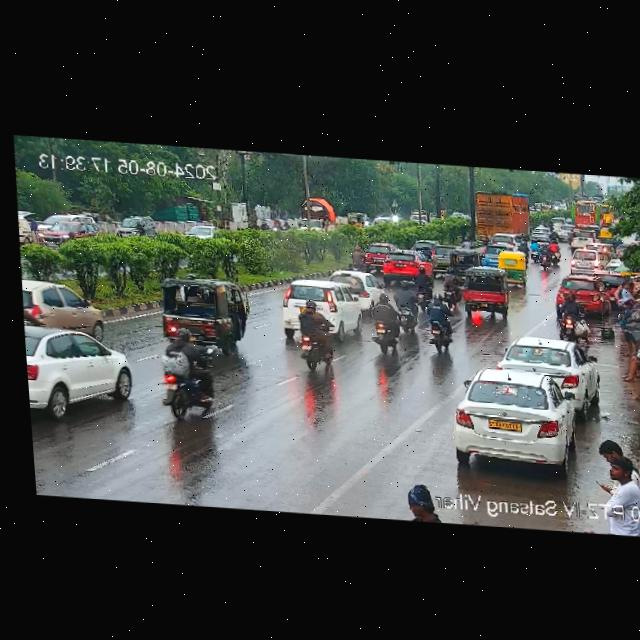bus: (570, 200, 615, 231)
car: (448, 368, 579, 470), (25, 323, 141, 422), (157, 272, 253, 346), (501, 334, 594, 397), (281, 279, 365, 340), (22, 273, 104, 333), (30, 208, 110, 248), (458, 266, 510, 317), (553, 273, 614, 312), (341, 267, 391, 304), (381, 245, 430, 277), (496, 251, 529, 288), (569, 248, 606, 273), (449, 245, 480, 271), (364, 240, 390, 270), (569, 225, 596, 249), (431, 244, 451, 274), (484, 234, 514, 252), (480, 241, 501, 265), (414, 238, 434, 249), (556, 223, 569, 238)
motorcycle: (149, 336, 220, 422), (290, 301, 342, 374), (419, 296, 459, 355), (366, 299, 405, 356), (556, 288, 587, 337), (406, 268, 435, 302), (438, 270, 462, 307), (536, 241, 556, 269), (544, 240, 562, 262), (350, 244, 364, 270), (530, 239, 542, 258), (462, 235, 473, 249), (566, 228, 575, 244)
person: (594, 437, 640, 501), (390, 478, 435, 523), (615, 337, 640, 384), (619, 299, 638, 352), (621, 282, 636, 305)
truck: (468, 190, 536, 243), (297, 192, 334, 230)
